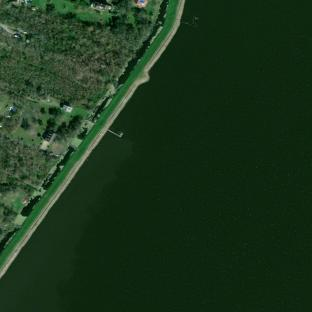Floresta: (0, 0, 156, 107), (0, 134, 55, 189), (57, 115, 83, 141)
